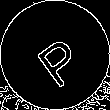P_NW: (25, 24, 85, 86)
